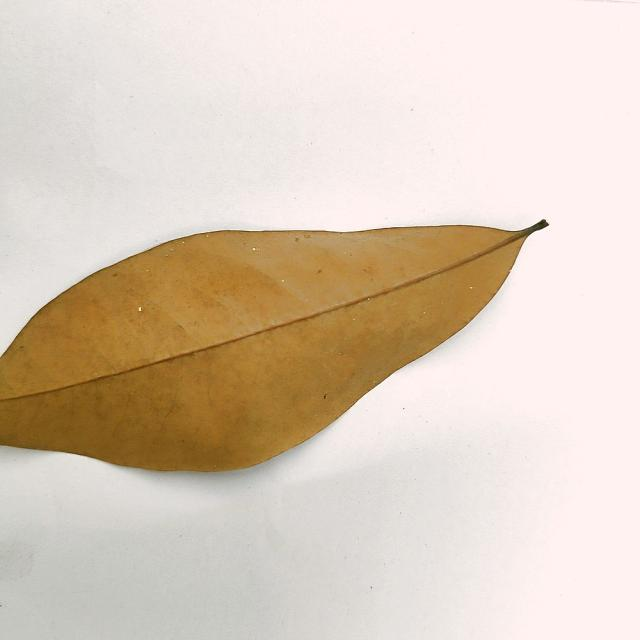Dry_Leaf-Lychee: (0, 223, 548, 476)
